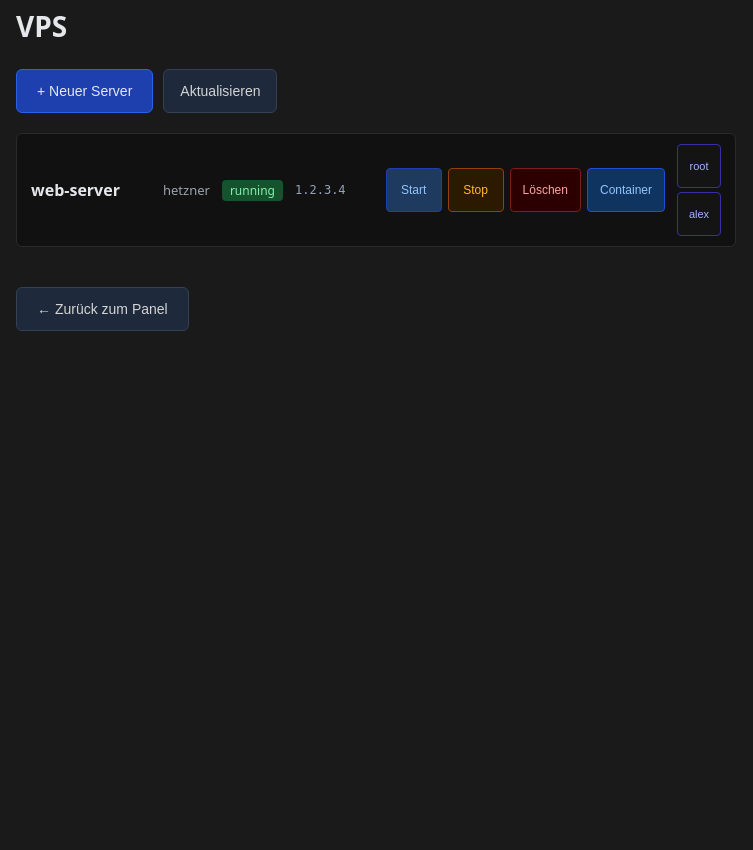
it: VpsContainerScanButton — red-team-scan-access-token AC2/AC4: "Hinter der Wall"-Checkbox › AC4: mit hinterlegtem Token ist die Checkbox aktivierbar
Click the button "Container".
click(626, 190)  # box [587,168,665,212]
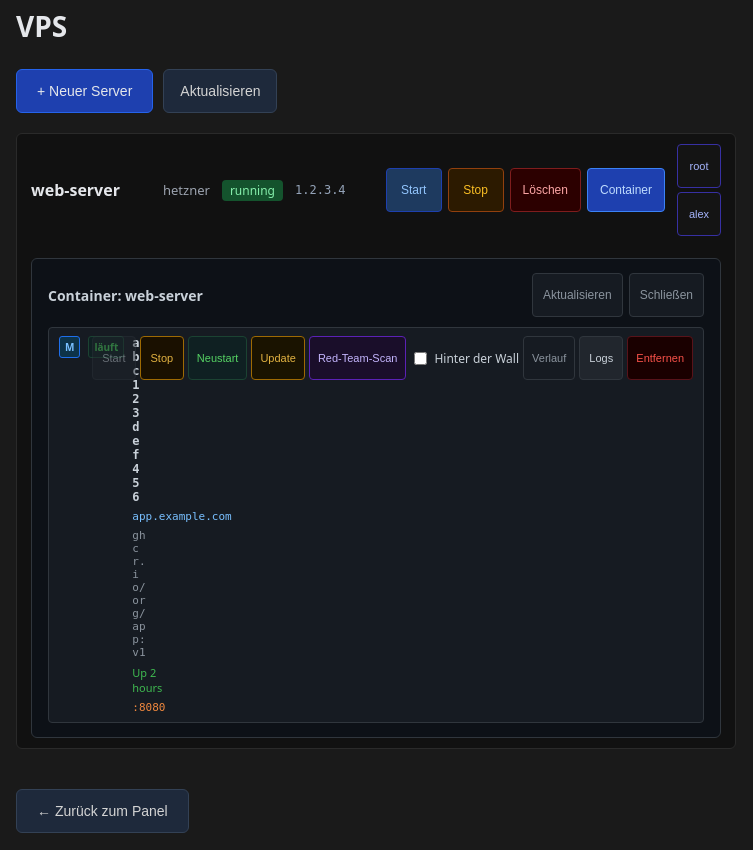
Result: the checkbox named "red-team-scan für container abc123def456 hinter der access-wall ausführen" is enabled at [414,352,427,364]
